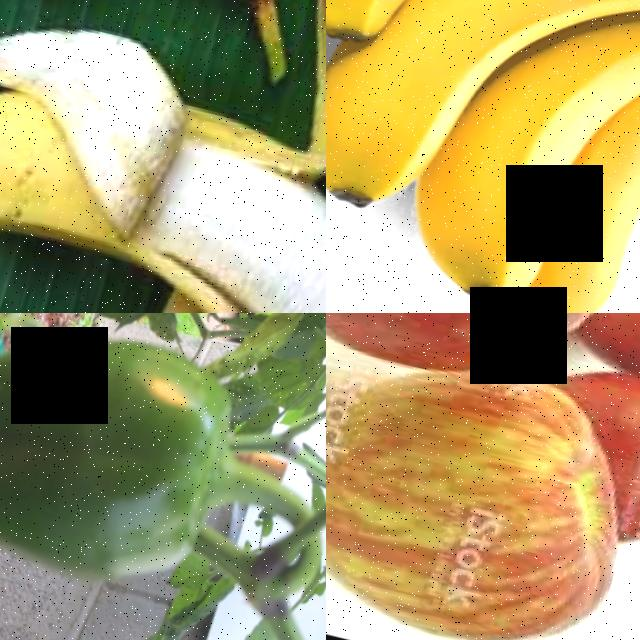apple: (326, 313, 640, 640), (326, 313, 640, 413)
banana: (0, 0, 326, 313), (326, 0, 640, 313)
bell pepper: (0, 315, 255, 599)
